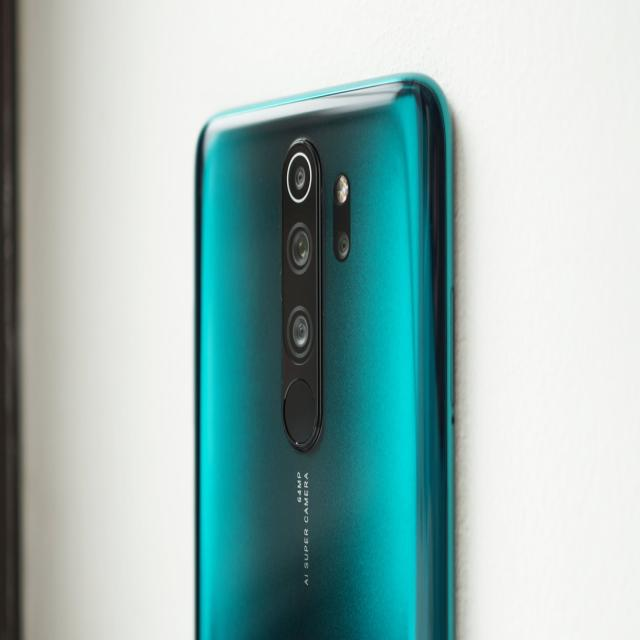Red Mi Note 8 Pro: (192, 73, 458, 640)
